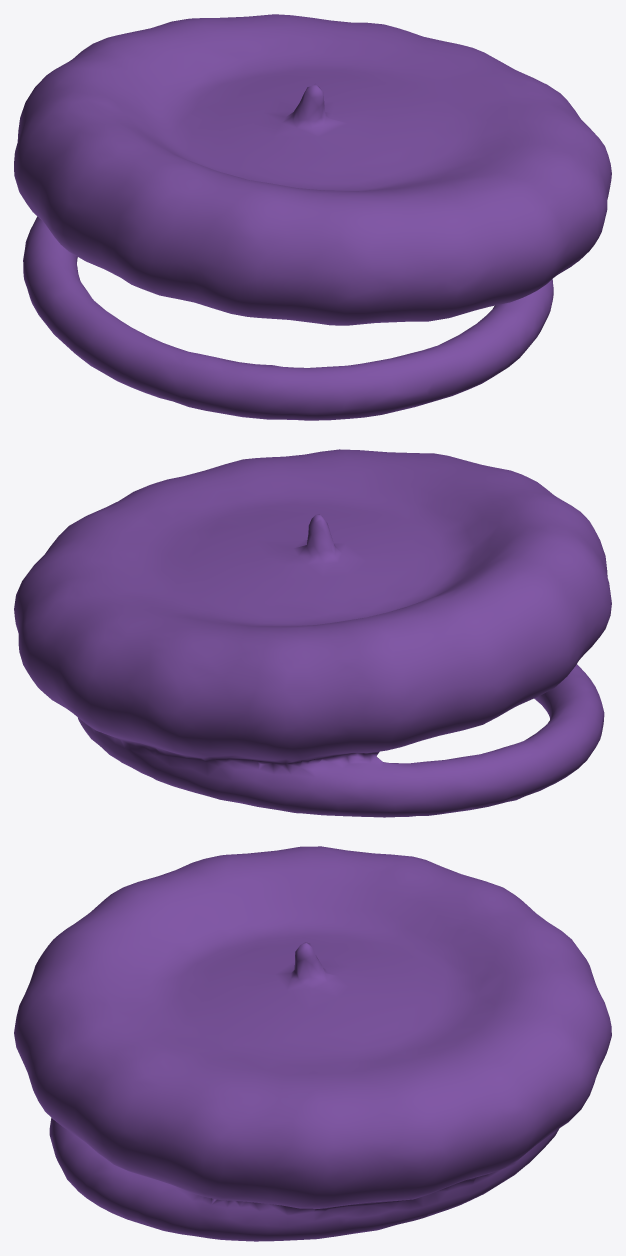
Rendered from beret_m.glb.
3 views of the same model, one above another, from view 1: azimuth 30°, elevation 25°; view 2: azimuth 150°, elevation 25°; view 3: azimuth 270°, elevation 25° (orthographic). The views are drawn at different scales.
Visible parts, largest first — view 1: Acc_beret_Beret; view 2: Acc_beret_Beret; view 3: Acc_beret_Beret.
Part boxes in pixels (bbox=[...]): Acc_beret_Beret: bbox=[14, 14, 611, 420]; Acc_beret_Beret: bbox=[14, 449, 611, 817]; Acc_beret_Beret: bbox=[14, 846, 611, 1241].
Size of the model in its own units: 0.3179 by 0.1346 by 0.324.
